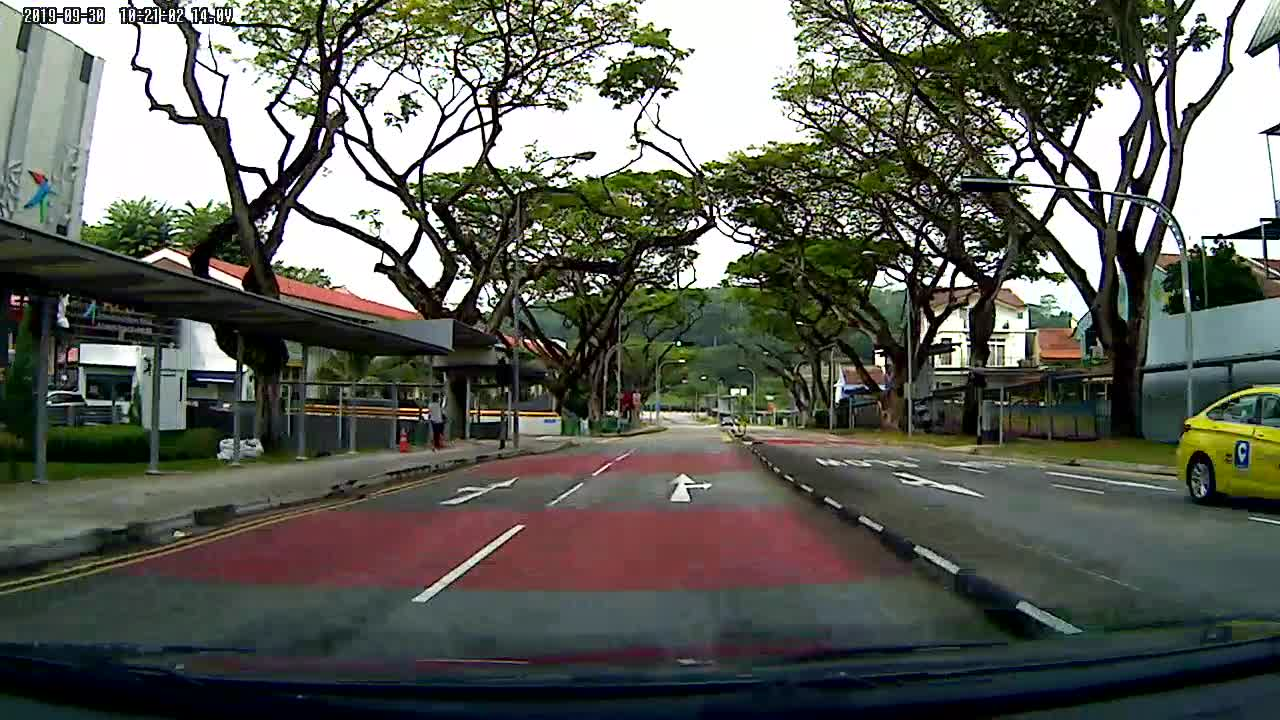car: (1174, 385, 1280, 508)
